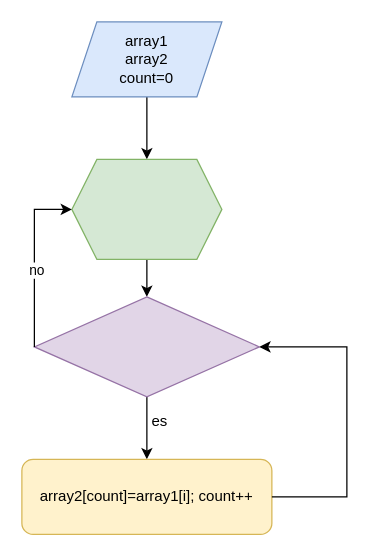
Image size: 379x556. Some labels were removed from this diagram. The shapes that lost their labels are listed below. From the top down, each one's centre as x and y in pixels, then its label:
At (146,208): "for(i=0; i<array1.length; i++".
At (146,346): "if(array1[i].length<=3)".
